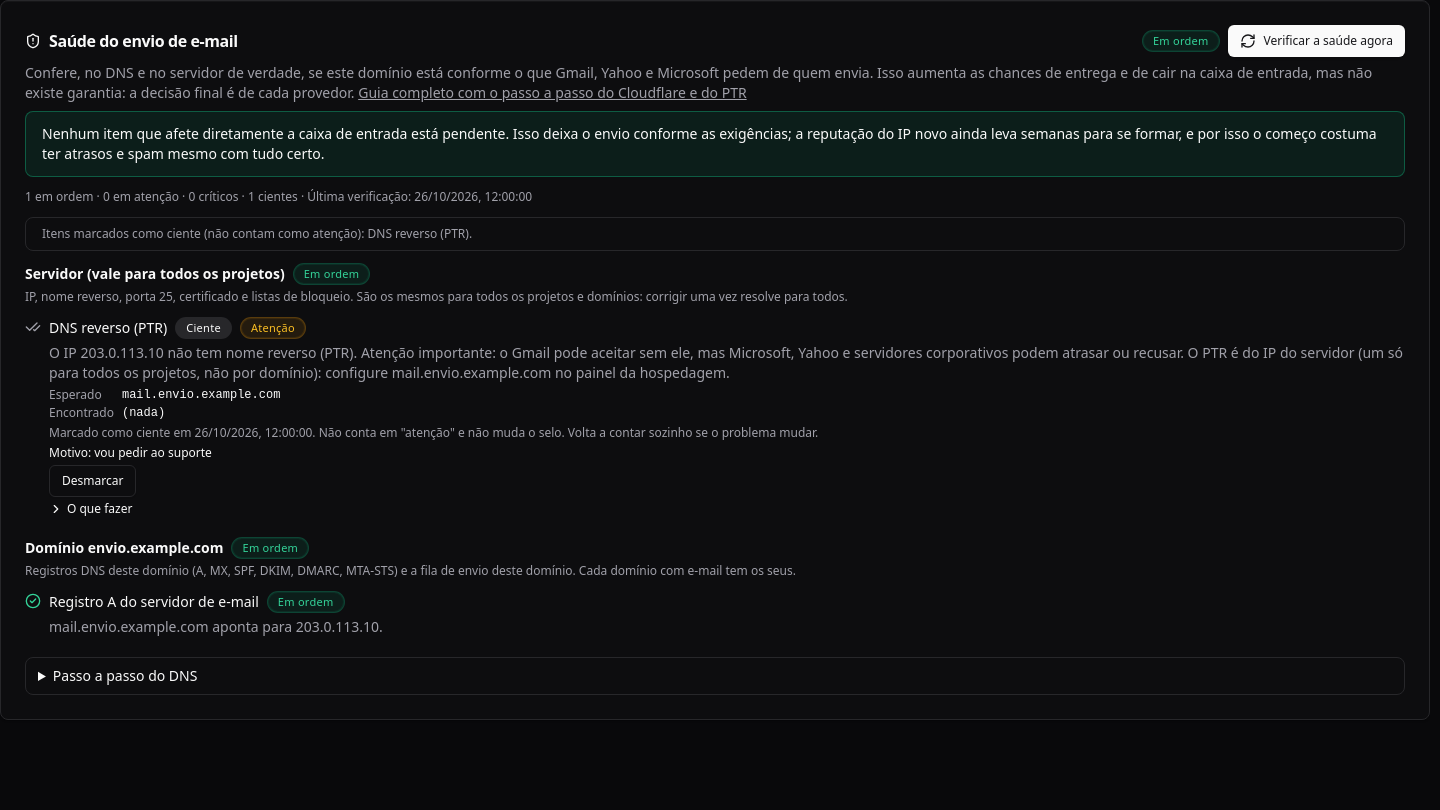
Test: marcar como ciente › desmarcar (DELETE) volta ao normal: o item conta de novo
What coordinates should you click on to do the following:
click the button "Desmarcar"
I would click on:
 (93, 481)
Its box is [49, 465, 136, 497].
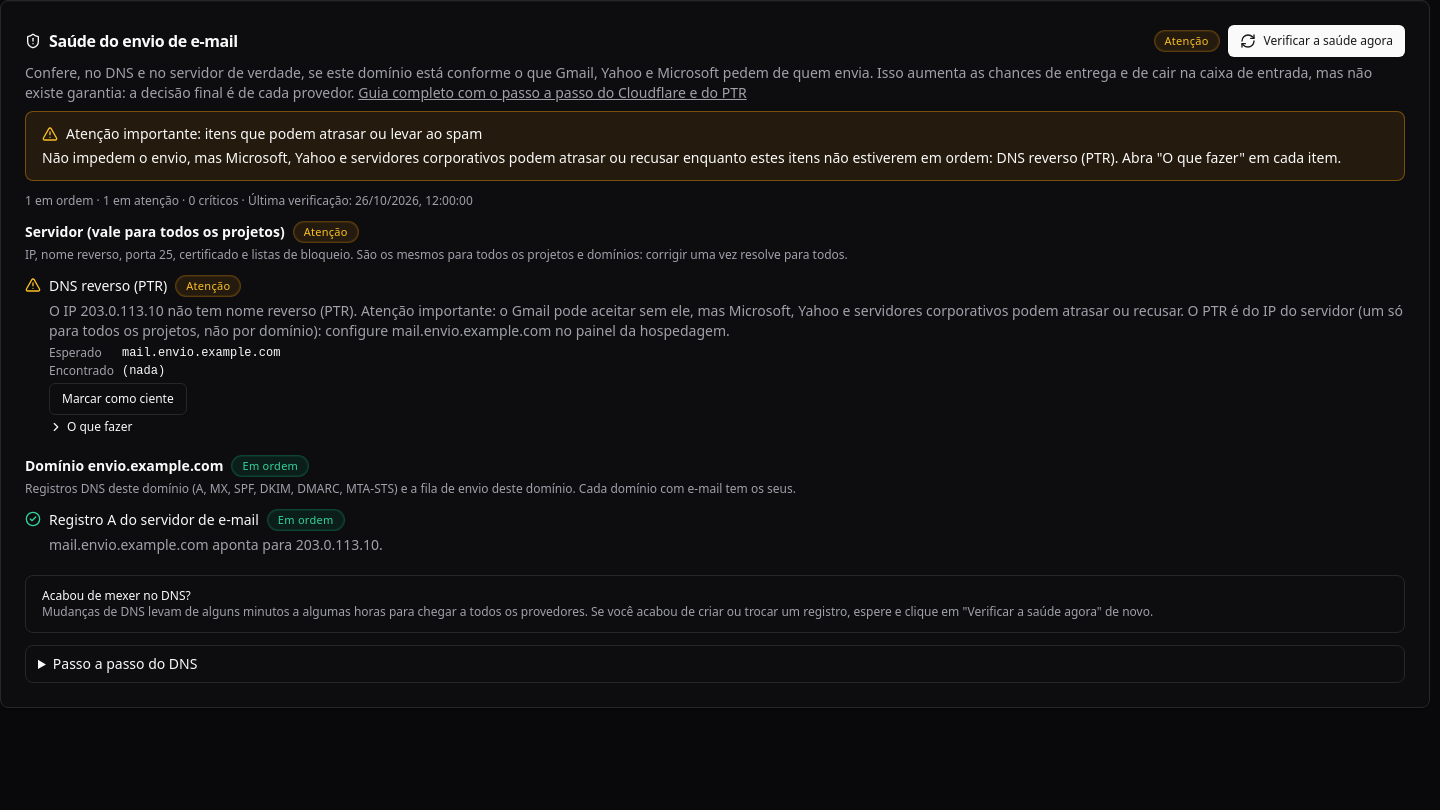
Result: the button with test id "ack-open-ptr" is shown at [49, 383, 187, 415]
Result: the text "Atenção importante: itens que podem atrasar ou levar ao spam" is shown at [42, 124, 482, 143]
